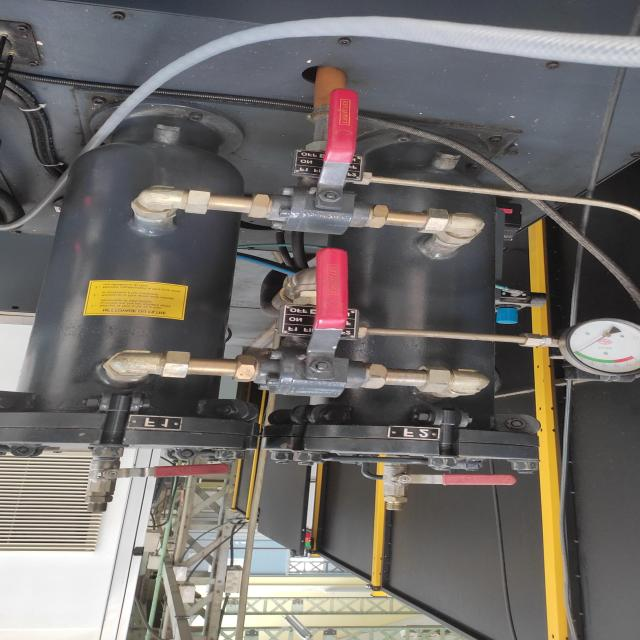closed_valve: (232, 246, 386, 399), (250, 86, 380, 241), (81, 456, 232, 496), (379, 464, 517, 502)
